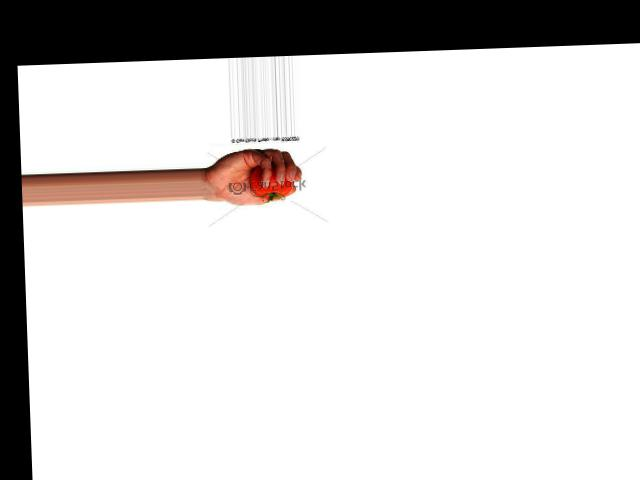tomato: (251, 161, 294, 200)
